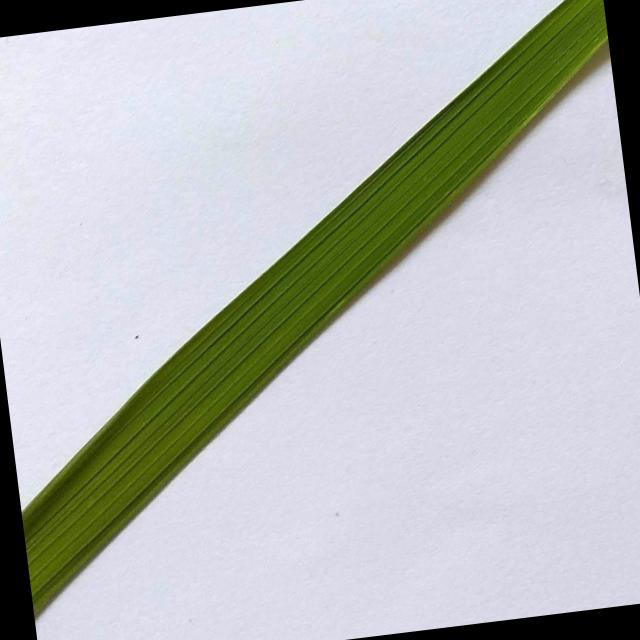Rice_Healthy: (21, 0, 607, 613)
